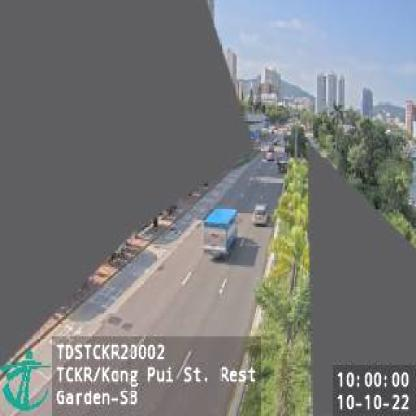Car: (254, 203, 270, 227)
Truck: (204, 205, 238, 259)
